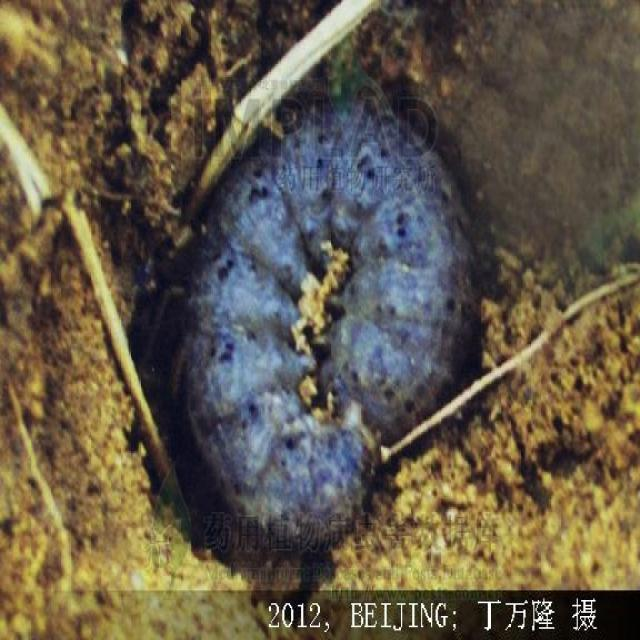black cutworm: (173, 80, 482, 557)
